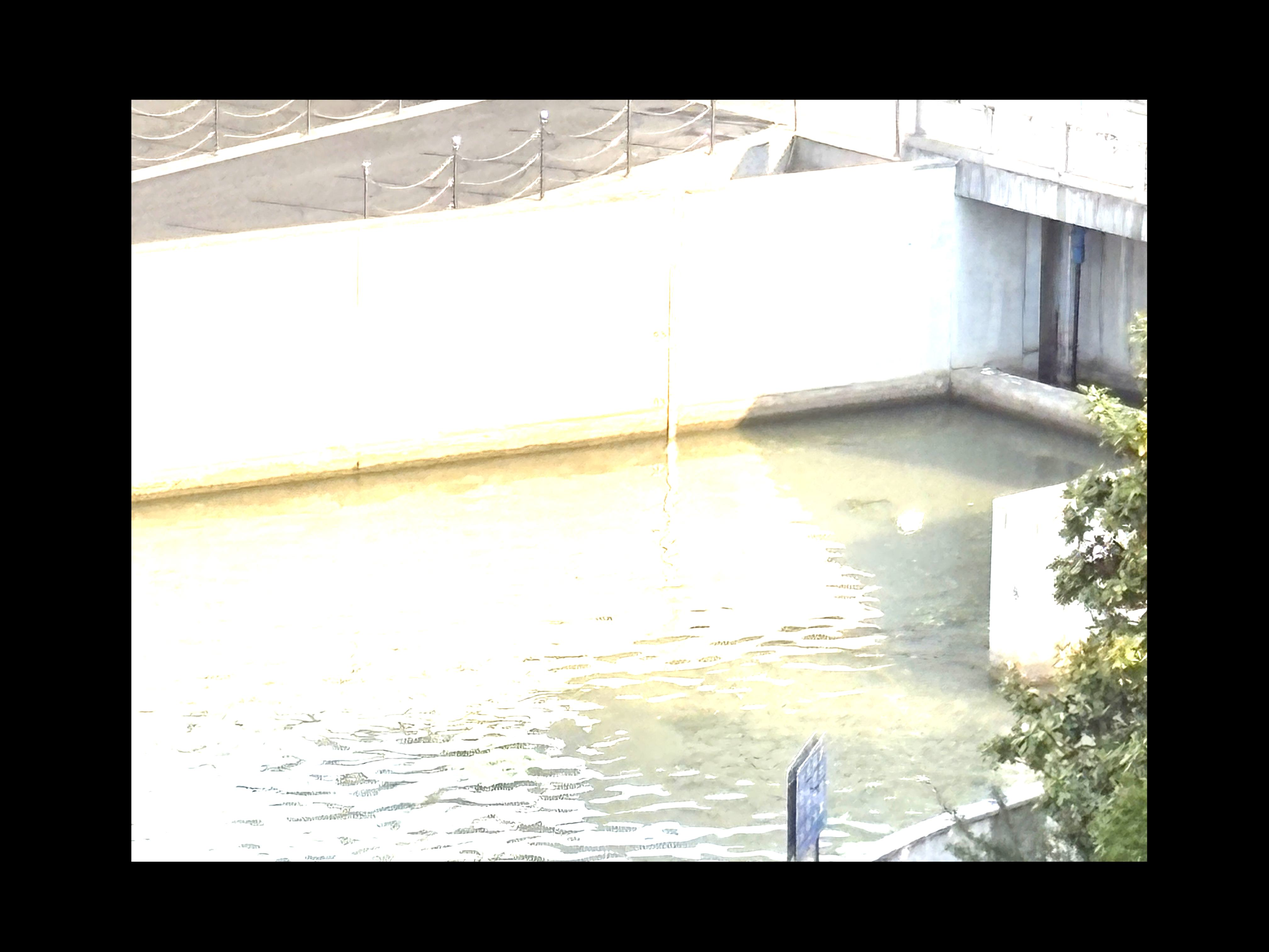Plastic wastes: (895, 512, 926, 533)
